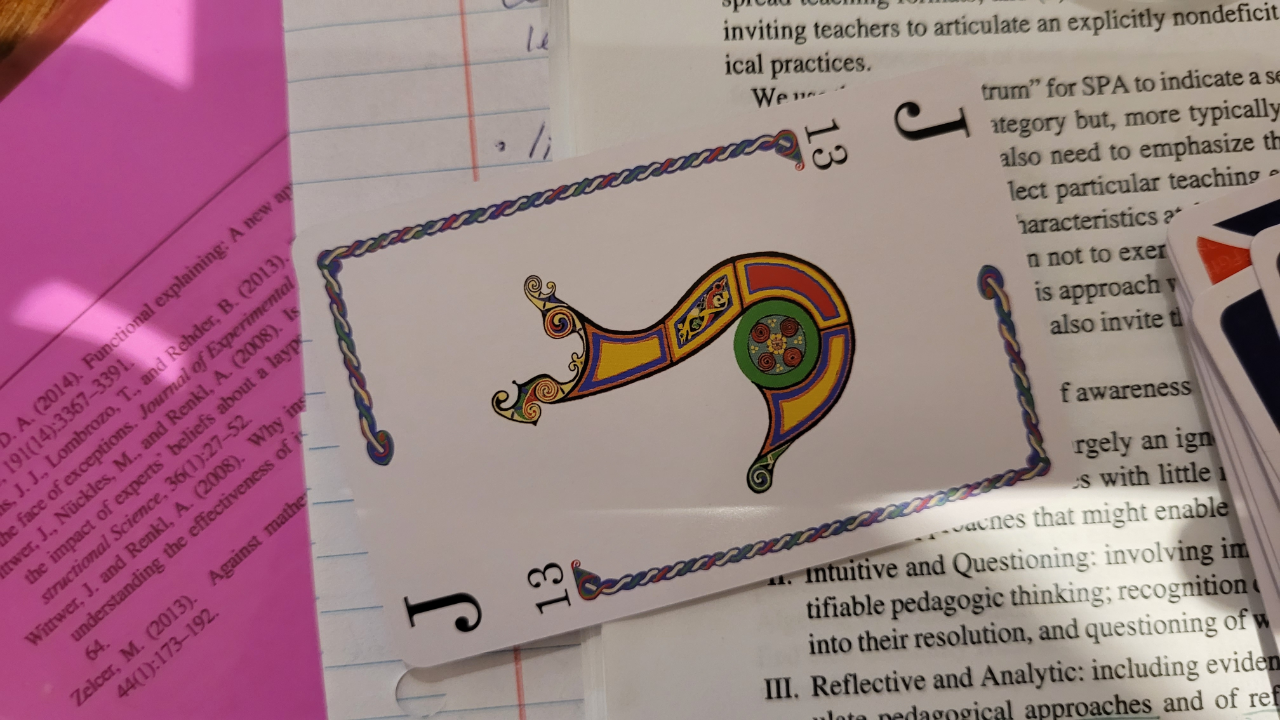quiddler_card: (246, 37, 1091, 681)
